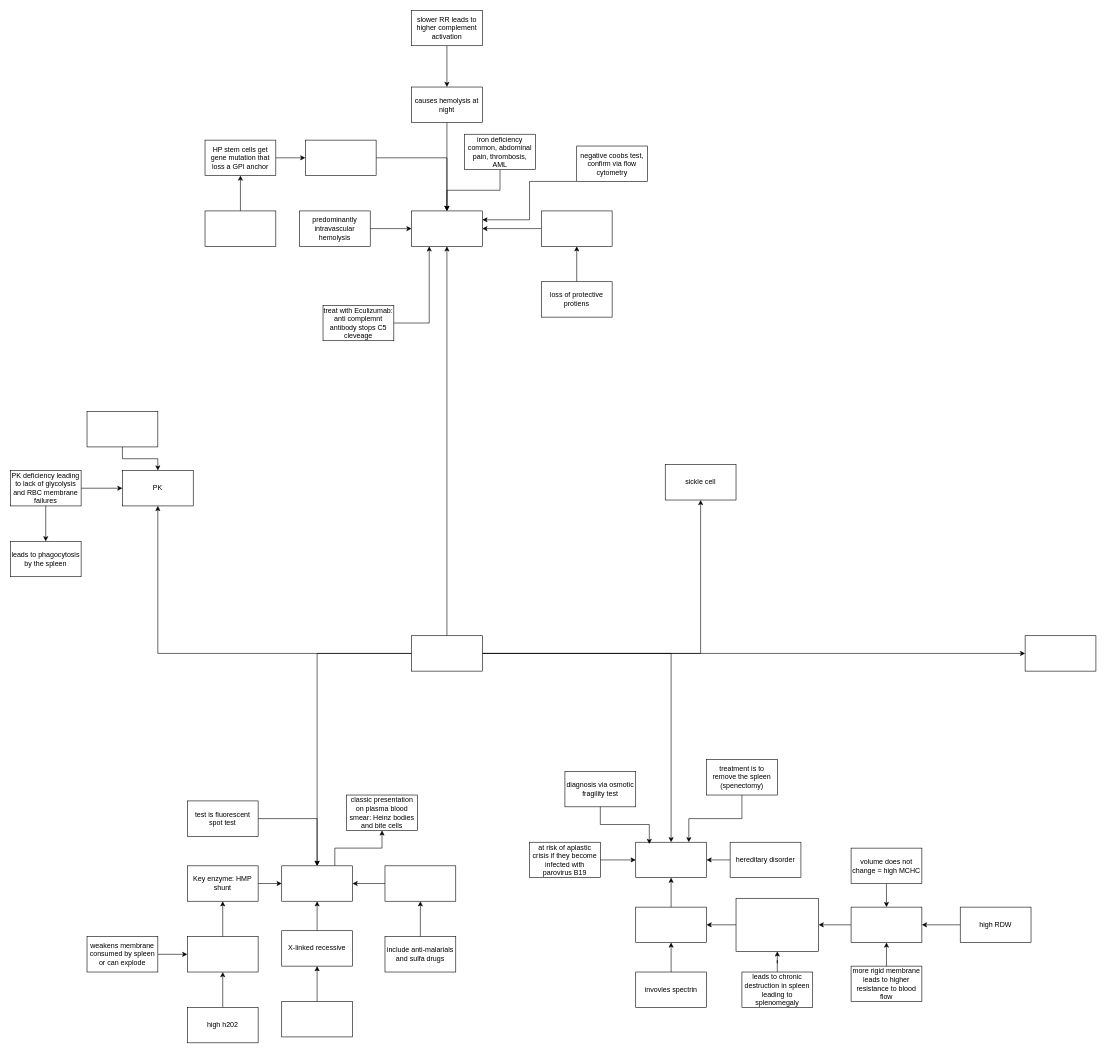
Image size: 1106x1053. Some labels were removed from this diagram. Here are the shapes that lost their labels. From the top down, the centre of each, then its label:
At (x=340, y=158): "acuired condition".
At (x=240, y=228): "also affect platlets and WBC".
At (x=446, y=228): "PNH".
At (x=576, y=228): "PBC destruction via complement system".
At (x=122, y=429): "autosommal receesive, common in newborns".
At (x=446, y=653): "Intrinsic Hemolysis".
At (x=671, y=860): "Spherocytosis".
At (x=317, y=883): "G6PD".
At (x=420, y=883): "recurrent hemolysis to certian trigers".
At (x=671, y=925): "proteins that tie cytoskeleton to RBC membrane".
At (x=777, y=924): "abnormal protiens leads to rigid membrane making cell getting consumed by spleen".
At (x=886, y=925): "progressive loss of cell membrane".
At (x=222, y=954): "leads to high oxidative damage because of lack of NADPH".
At (x=317, y=1019): "high prevalence in Africa, asia, mediteranean".
